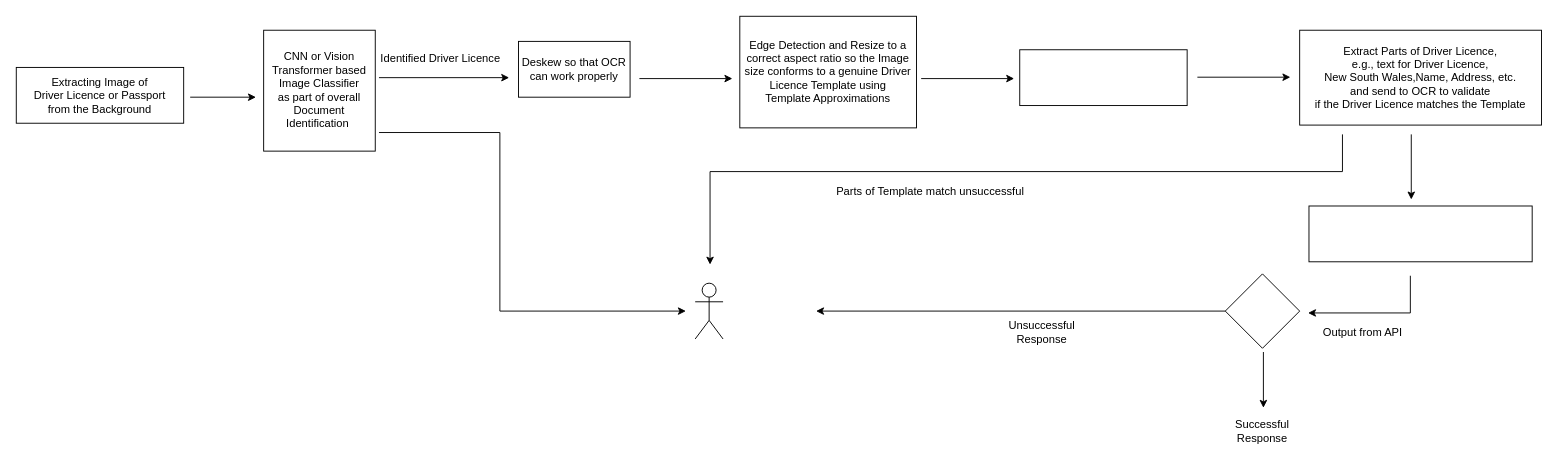
Image size: 1558x461. Some labels were removed from this diagram. The centre of each missing label's shape, as x and y in pixels:
"Call API with all the information retrieved" goes at point 1420,233.
"Human-in-the-loop" goes at point 708,310.
"Region Detection using Deep Learning base Object Detection" goes at point 1103,77.
